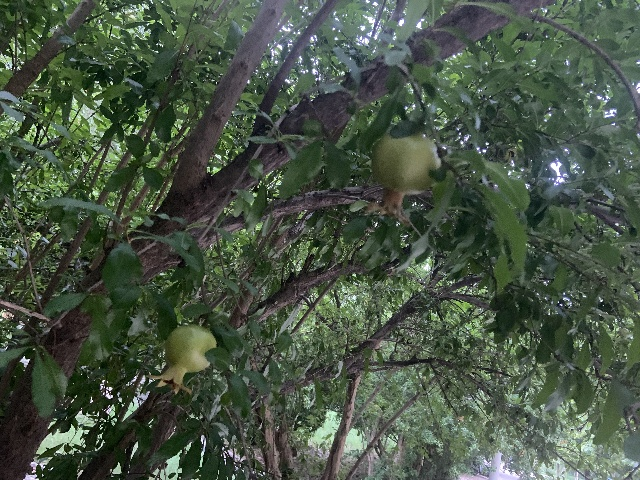mid-growth: (365, 134, 440, 224), (149, 324, 217, 395)
